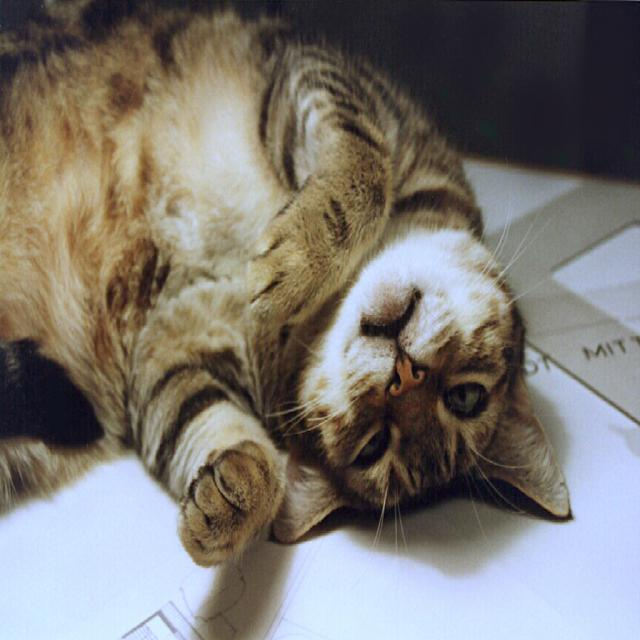Cat: (0, 3, 576, 574)
